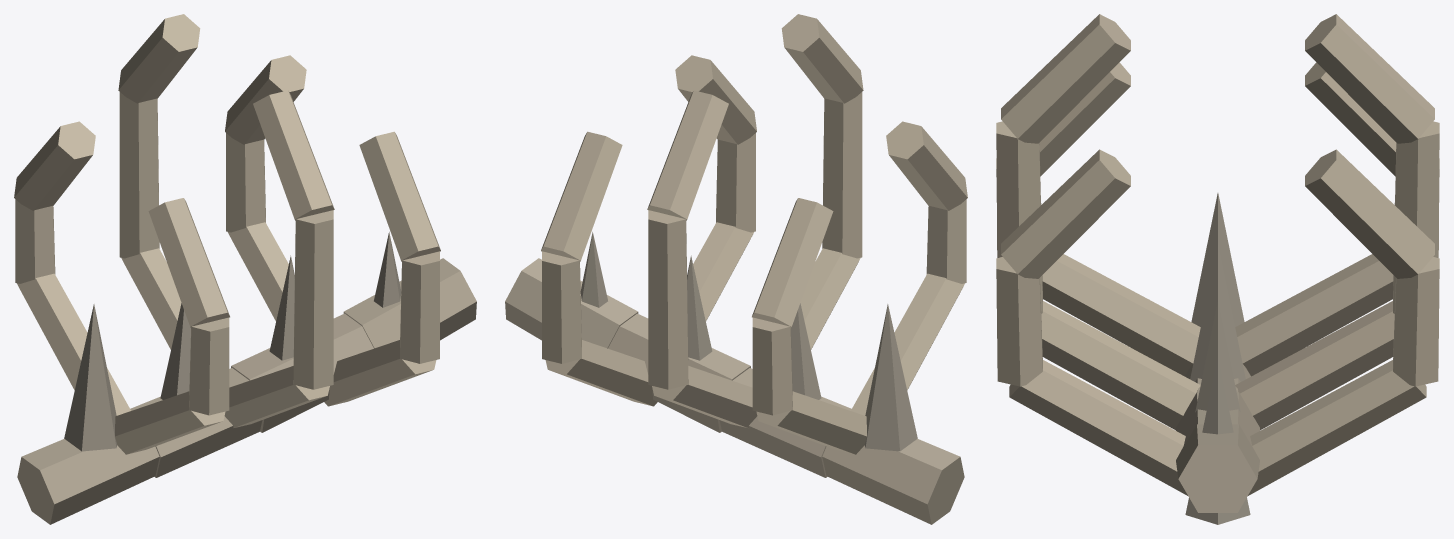
Rendered from map-exclusive-v3__dragon_01.glb.
3 views of the same model, side by side, from view 1: azimuth 30°, elevation 25°; view 2: azimuth 150°, elevation 25°; view 3: azimuth 270°, elevation 25° (orthographic). The views are drawn at different scales.
Parts seen in each view (by area): view 1: dragon_01; view 2: dragon_01; view 3: dragon_01.
Boxes of the visible parts, <box> form: dragon_01: <box>14,14,476,524</box>; dragon_01: <box>505,14,967,524</box>; dragon_01: <box>996,14,1439,524</box>.
Bounding box in the file's own units: 2.17 × 1.99 × 1.68.
